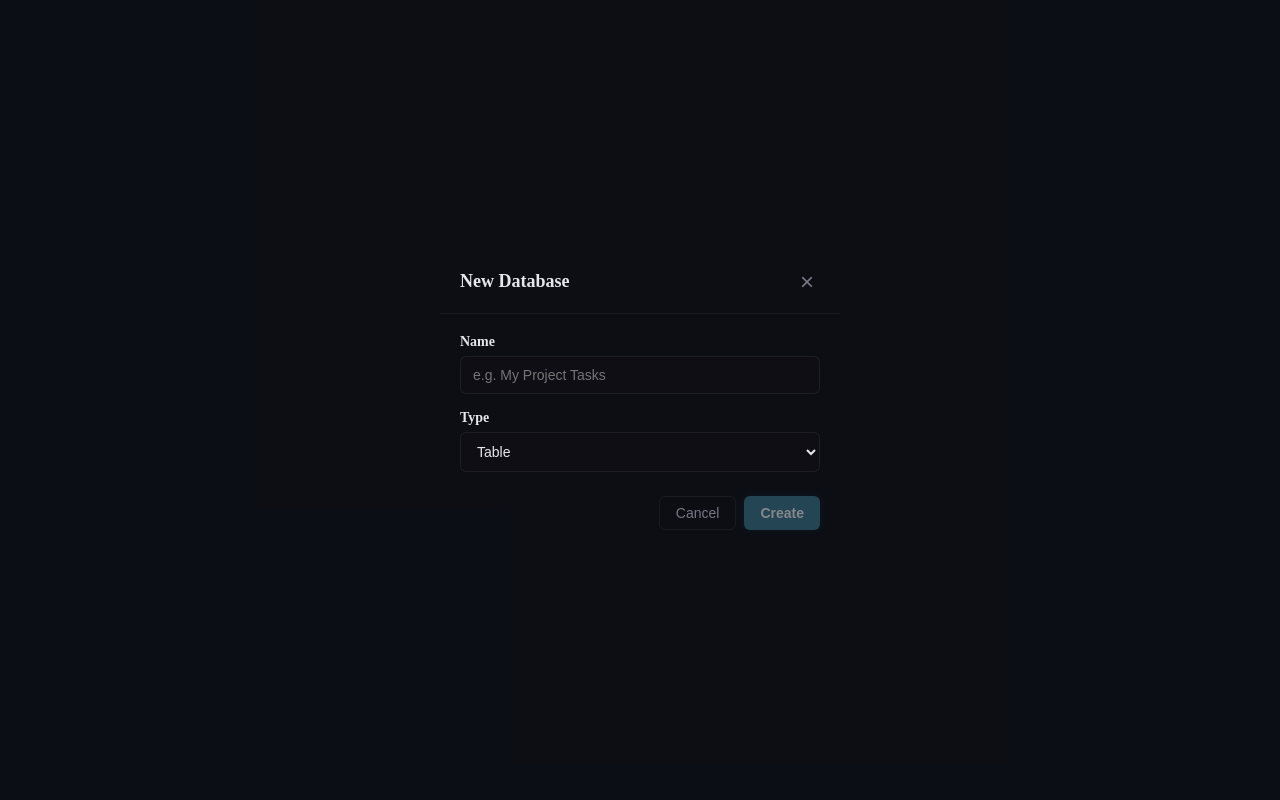
Test: DatabaseCreateModal › enables Create button when name is provided
The width and height of the screenshot is (1280, 800).
Type "My DB" into the field with test id "input-db-name" at (640, 374), box [460,356,820,394]
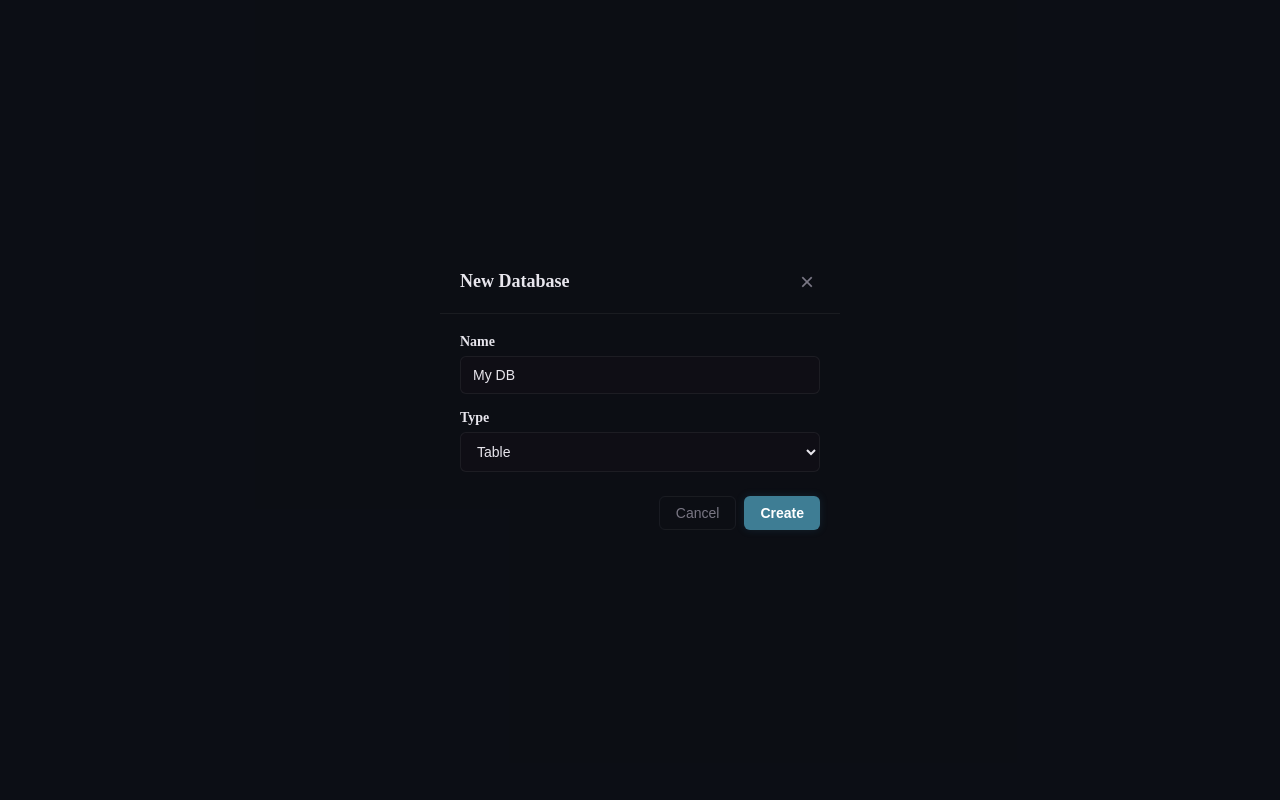
Now the button with test id "btn-confirm-create" is enabled, box [744,496,820,530]
